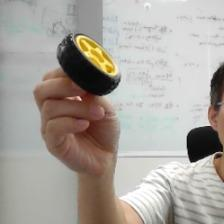wheel: (54, 25, 128, 101)
